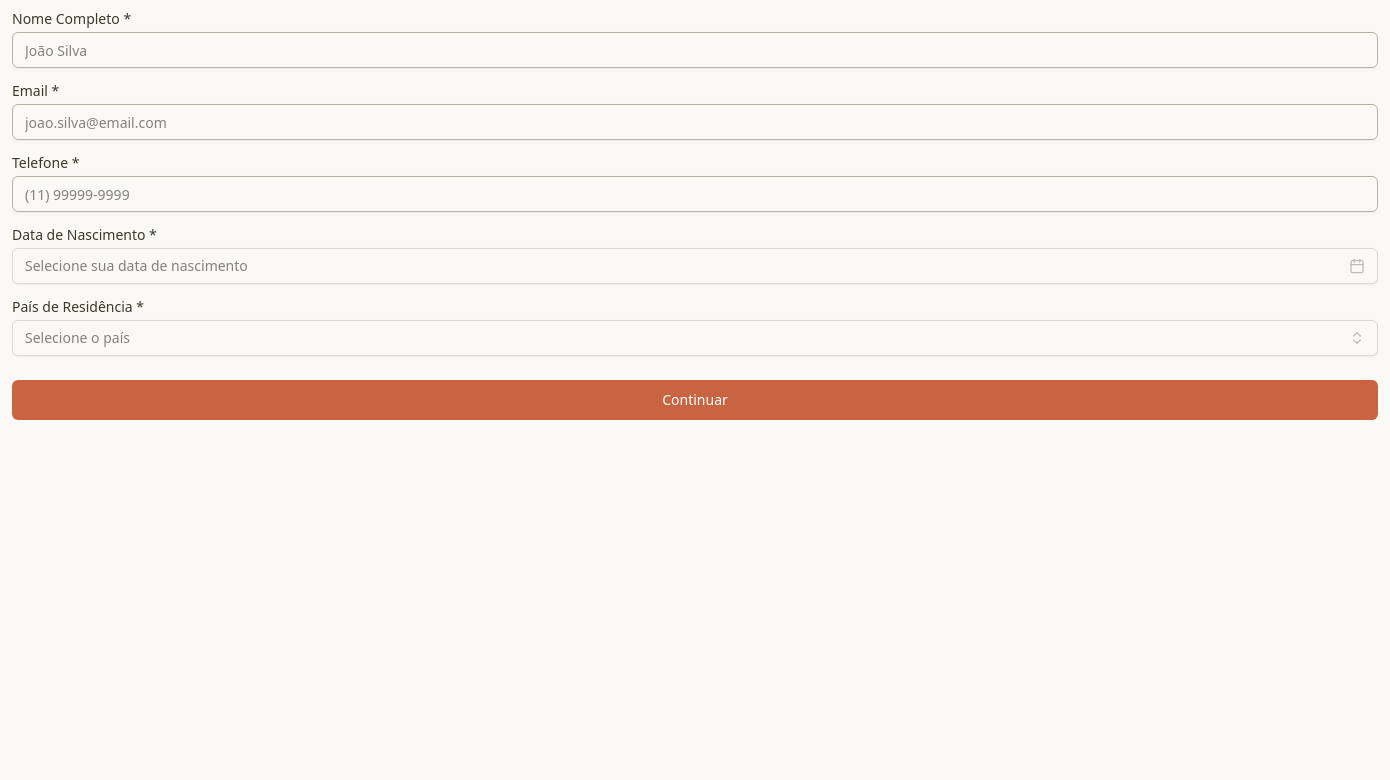
Test: PersonalInfoStep › should display validation error for short name
Type "Jo" into the field labelled "Nome Completo *" at (695, 50), box [12,32,1378,68]
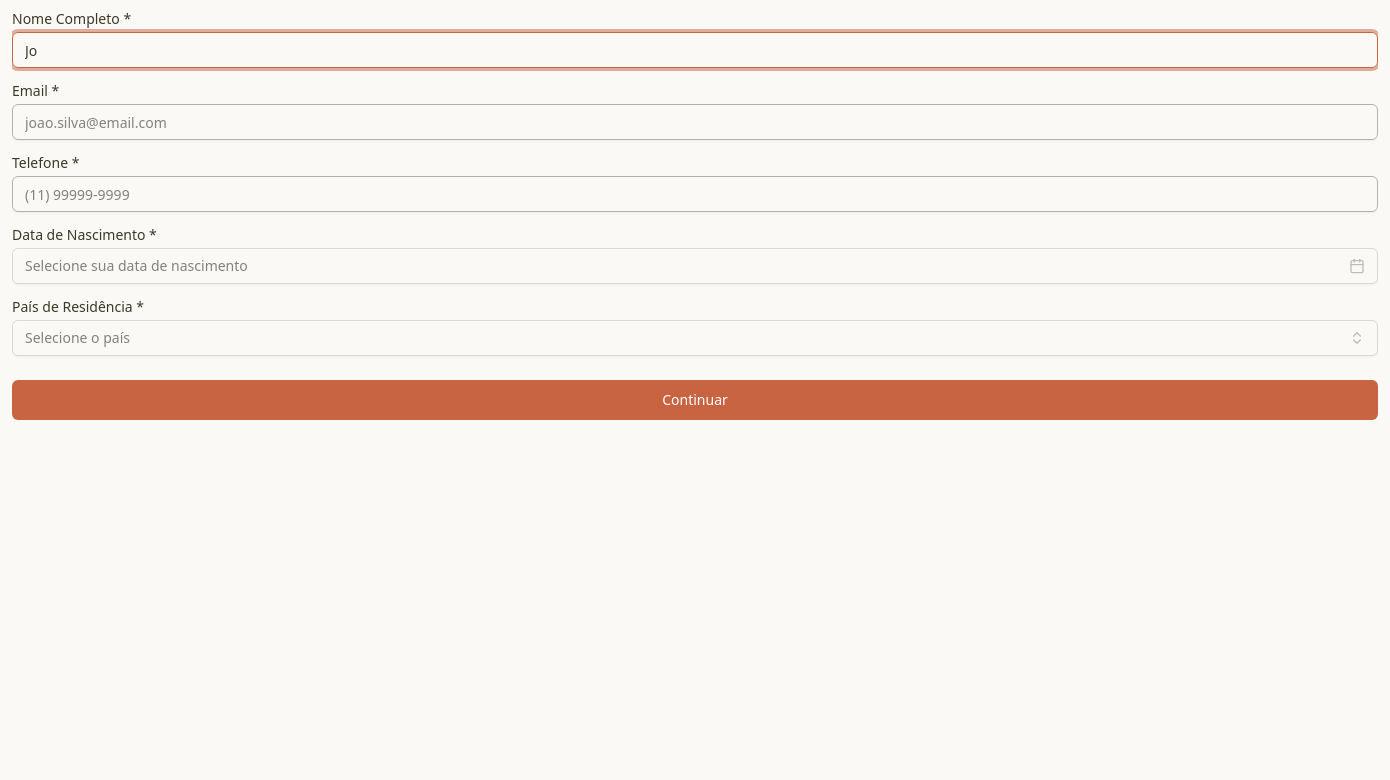
Click the button "Continuar" at (695, 400), box [12,380,1378,420]
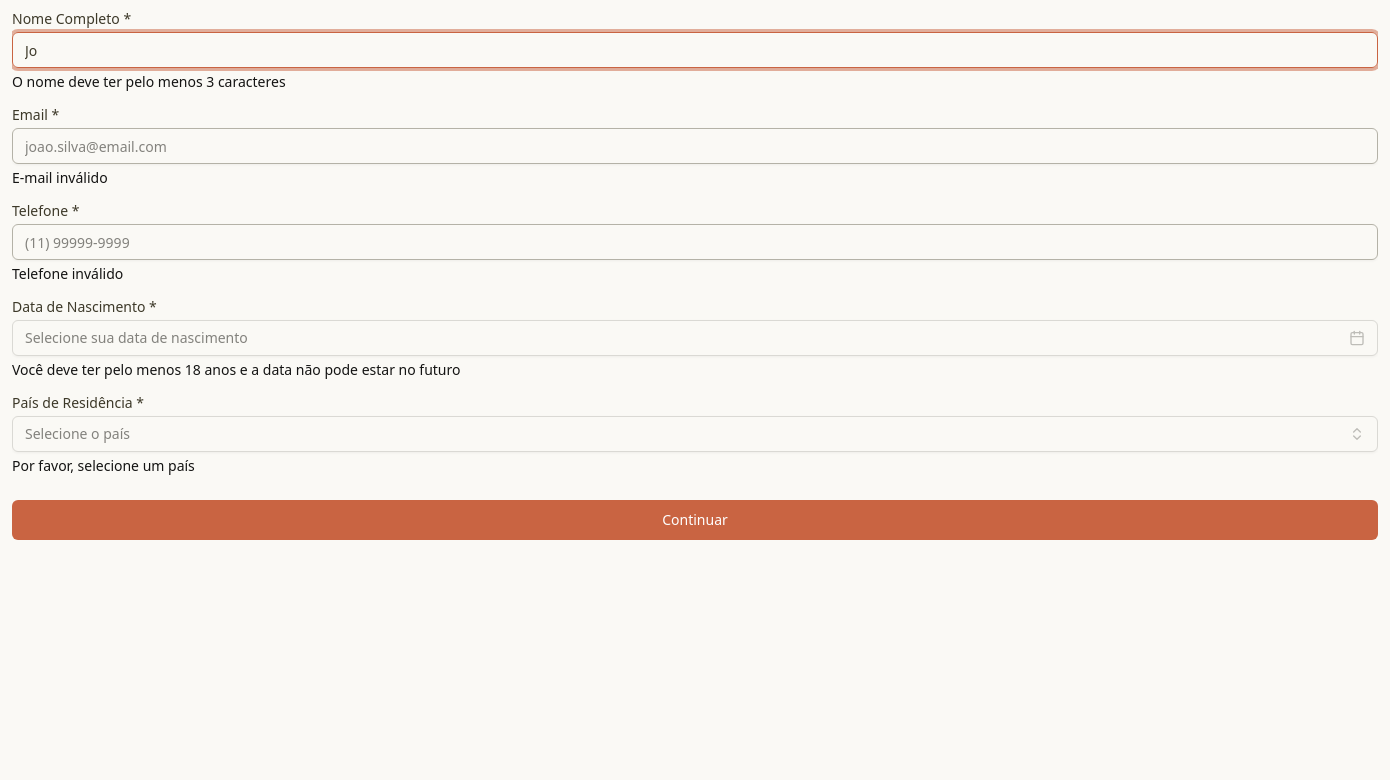
Result: the text "O nome deve ter pelo menos 3 caracteres" is shown at [12,72,286,91]
